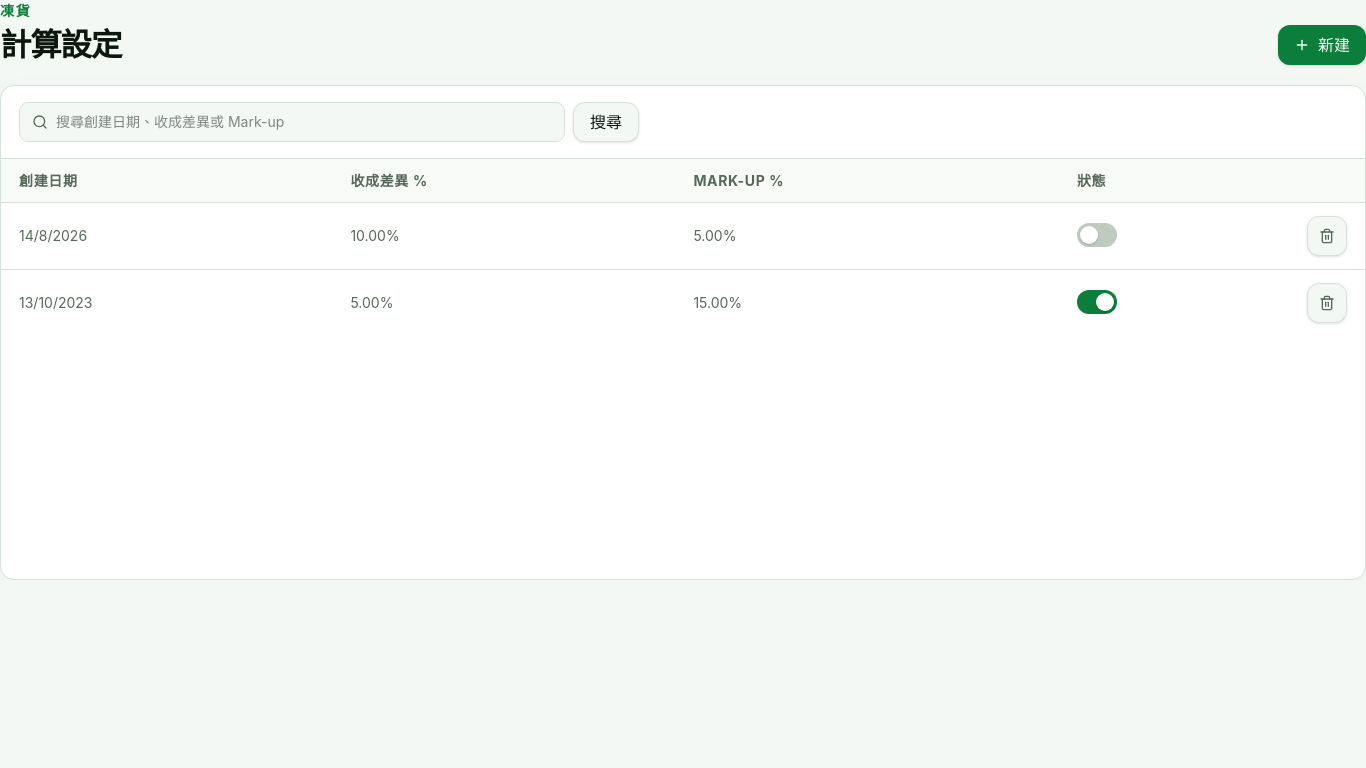
Test: Calculation settings page › limits create inputs to 0-100 with two decimals
Expected: the text "10.00%" is shown, [332, 202, 675, 269]
Click the button "新建" at (1322, 45), box [1278, 25, 1365, 65]
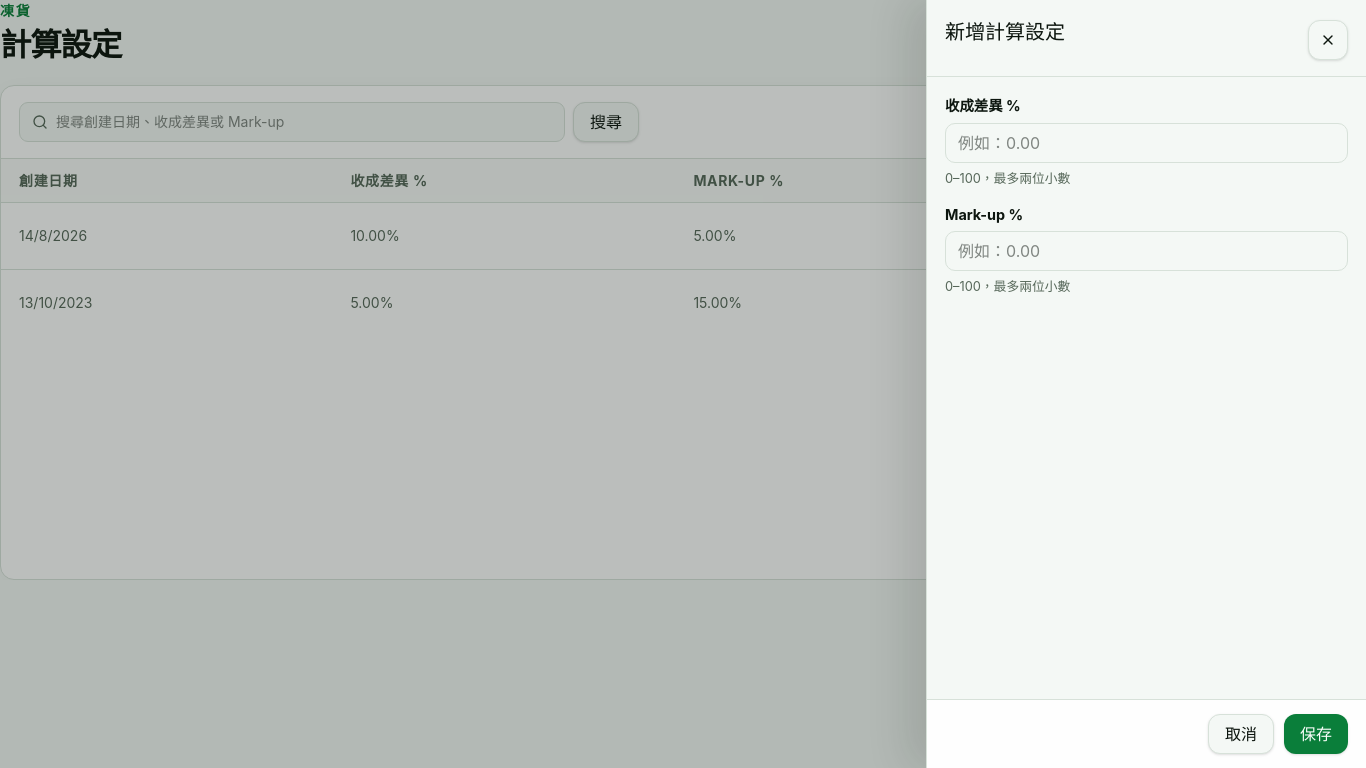
Type "12.345" into the field labelled "收成差異 %" at (1146, 143), box [945, 123, 1348, 163]
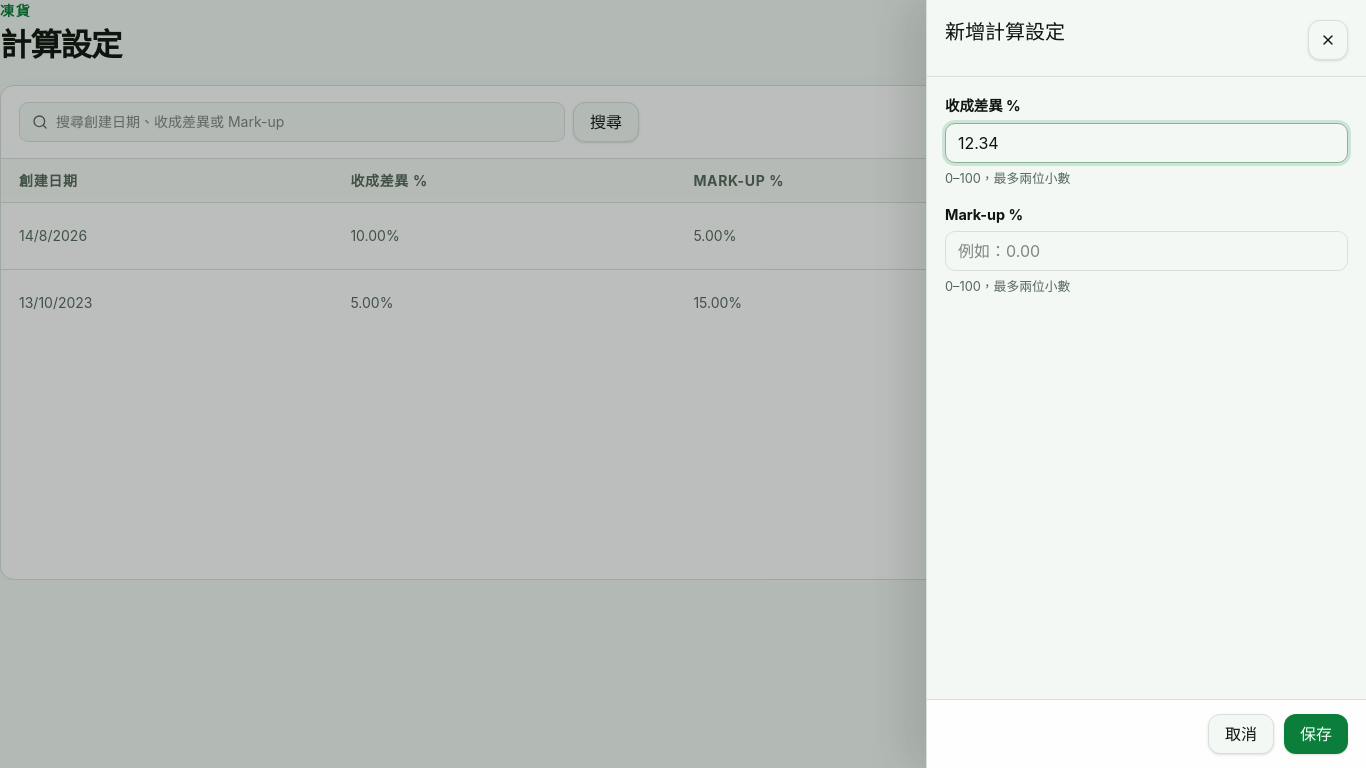
Now the field labelled "收成差異 %" holds "12.34"
Replace the text in the field labelled "收成差異 %" with "101" at (1146, 143), box [945, 123, 1348, 163]
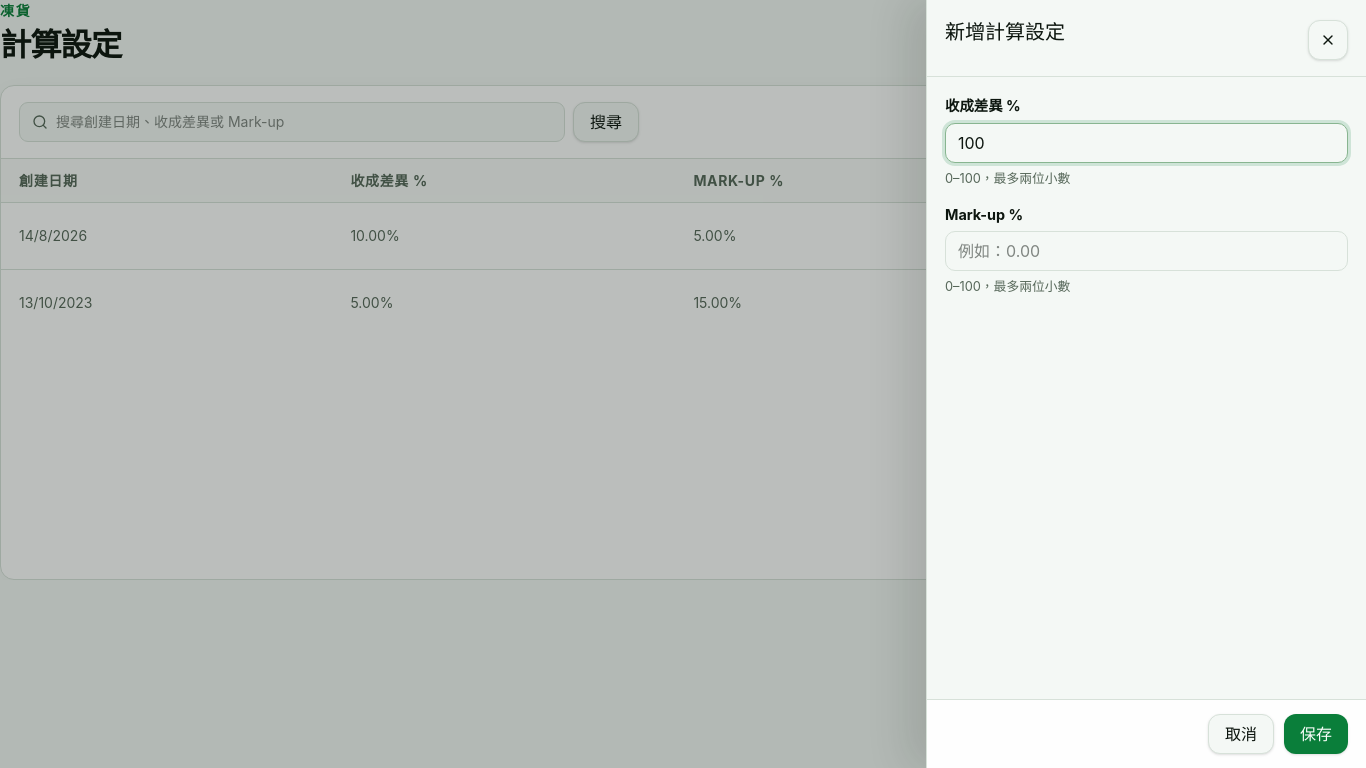
Now the field labelled "收成差異 %" holds "100", box [945, 123, 1348, 163]
